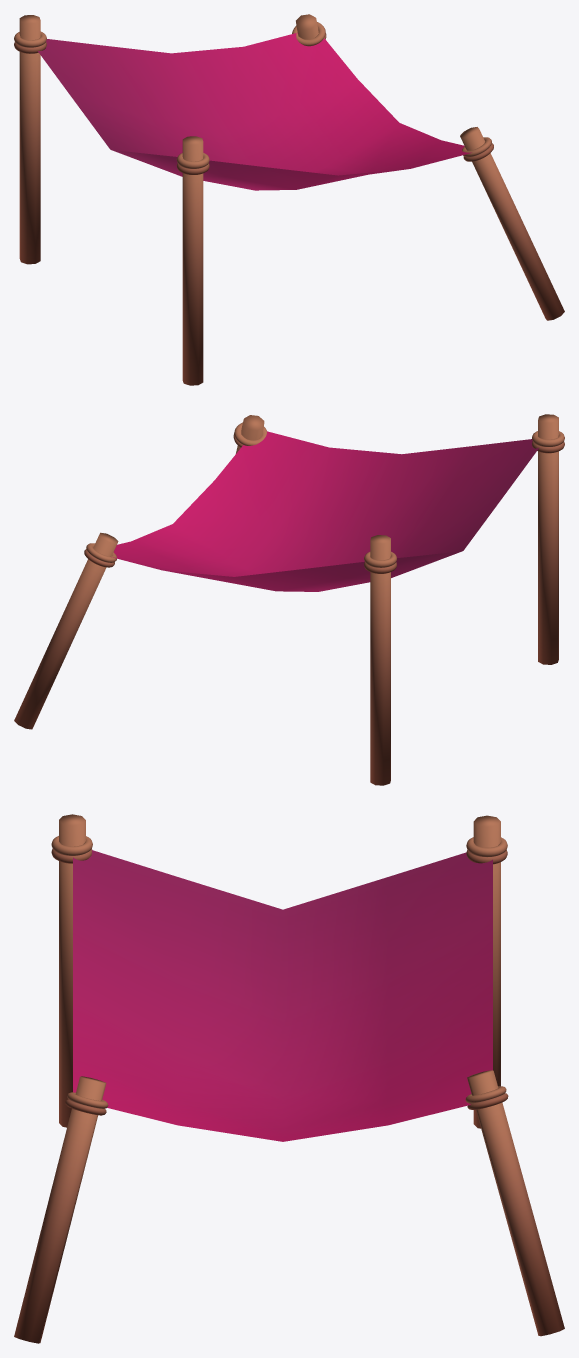
Rendered from Parasol10.fbx.
3 renders of one model, top to bottom at view 1: azimuth 30°, elevation 25°; view 2: azimuth 150°, elevation 25°; view 3: azimuth 270°, elevation 25°, orthographic. The views are drawn at different scales.
Parts seen in each view (by area): view 1: Parasol10; view 2: Parasol10; view 3: Parasol10.
Boxes of the visible parts, left/top/right/bottom form: Parasol10: left=14, top=14, right=564, bottom=385; Parasol10: left=14, top=414, right=564, bottom=785; Parasol10: left=14, top=814, right=564, bottom=1343.
Bounding box in the file's own units: 1.47 × 0.9559 × 1.52.
Materials: 1 (1 with a texture image).
